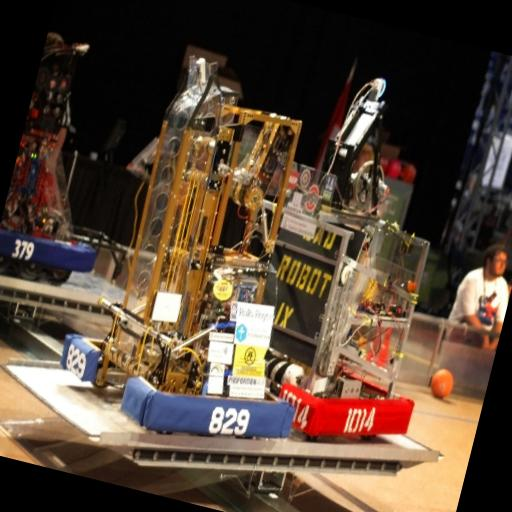robot: (50, 70, 366, 446), (214, 53, 492, 462), (0, 68, 137, 295)
